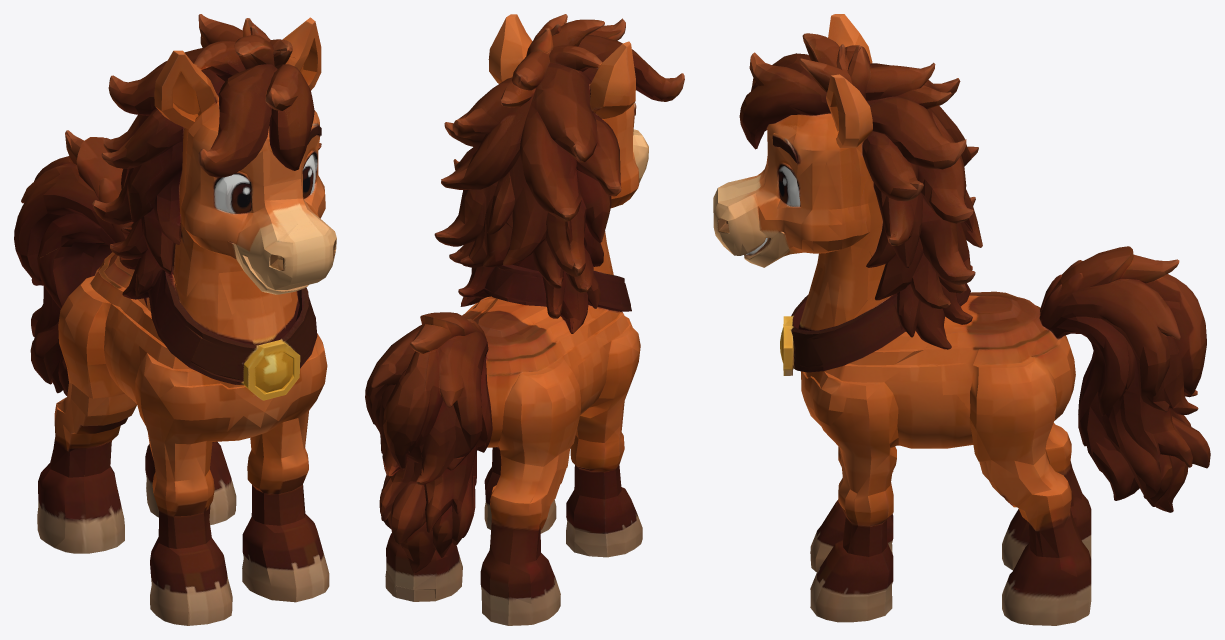
Rendered from Jordan idle.glb.
3 renders of one model, left to right at view 1: azimuth 30°, elevation 25°; view 2: azimuth 150°, elevation 25°; view 3: azimuth 270°, elevation 25°, orthographic. The views are drawn at different scales.
Parts seen in each view (by area): view 1: output_unwrapped; view 2: output_unwrapped; view 3: output_unwrapped.
Part boxes in pixels (x1,y1,x2,y2): output_unwrapped: [14, 14, 336, 625]; output_unwrapped: [365, 14, 684, 625]; output_unwrapped: [713, 14, 1210, 625].
Bounding box in the file's own units: 0.7134 × 1.9 × 1.57.
1 material, 1 textured.
